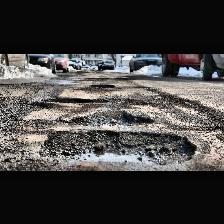pothole: (38, 129, 198, 165), (57, 108, 155, 126), (43, 96, 110, 102), (92, 82, 114, 88)
